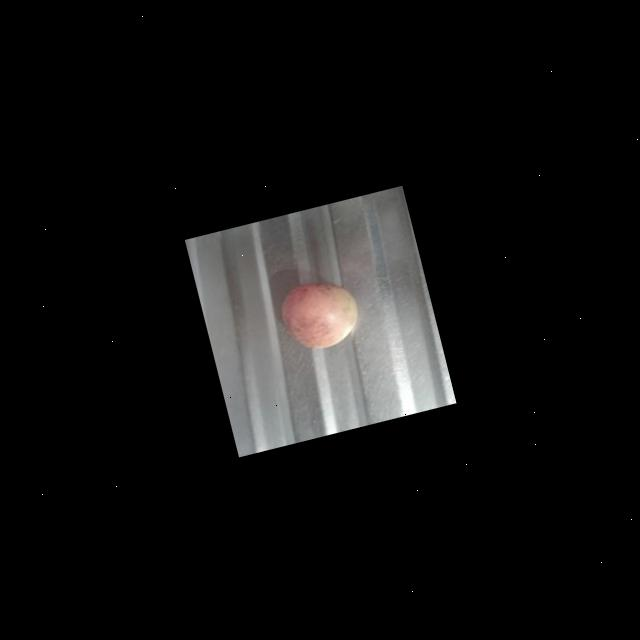Mango: (274, 272, 364, 356)
